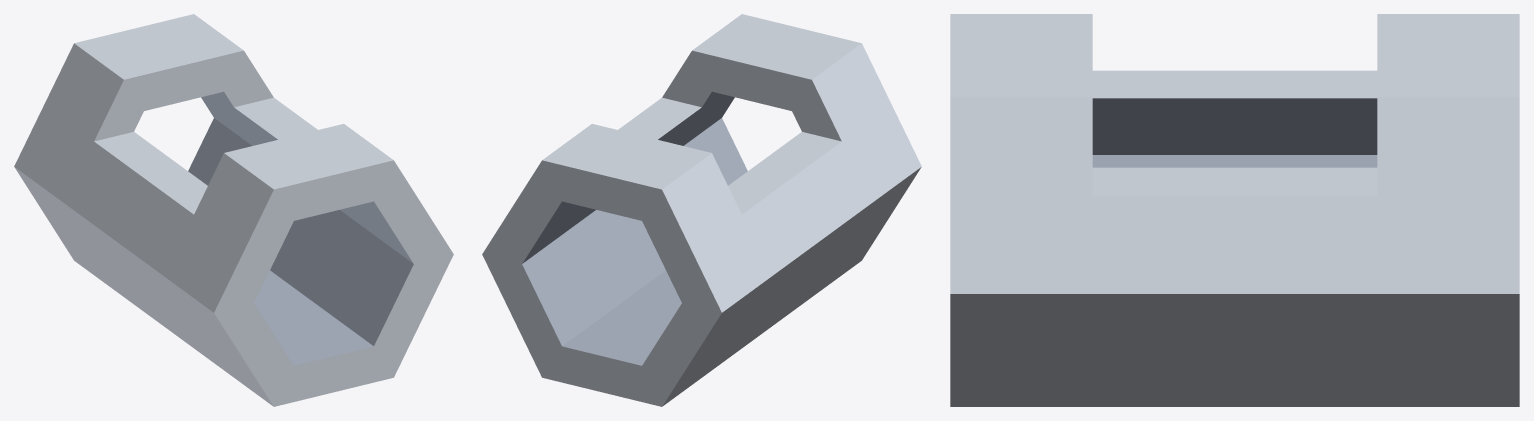
File: pipe_open.dae
3 views of the same model, side by side, from view 1: azimuth 30°, elevation 25°; view 2: azimuth 150°, elevation 25°; view 3: azimuth 270°, elevation 25° (orthographic). The views are drawn at different scales.
Parts seen in each view (by area): view 1: pipe_open; view 2: pipe_open; view 3: pipe_open.
Part boxes in pixels (<box>): pipe_open: <box>14,14,453,406</box>; pipe_open: <box>482,14,921,406</box>; pipe_open: <box>950,14,1519,406</box>.
Size of the model in its own units: 0.6928 by 0.6 by 1.
